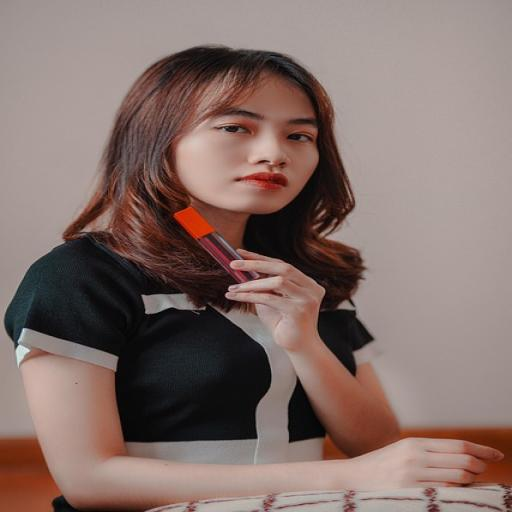lipstick: (174, 207, 260, 283)
